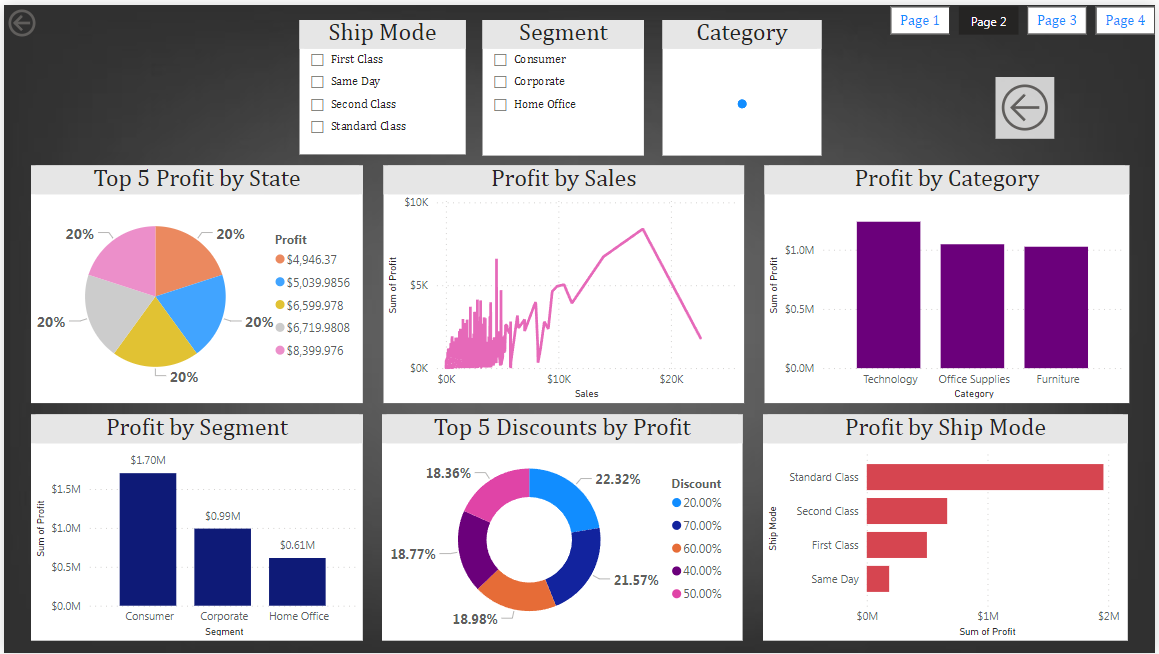

This screenshot's page, from the dashboard's own definition file:
{"tool":"powerbi","page":{"name":"Page 2","canvas":[1280,720],"ordinal":1},"visuals":[{"type":"actionButton","box":[0,0,100,40],"z":0},{"type":"pieChart","title":"Top 5 Profit by State","fields":{"Category":["Orders.Profit"],"Y":["CountNonNull(Orders.State)"]},"box":[30.2,178,368.7,263.8],"z":1000},{"type":"clusteredColumnChart","title":"Profit by Category","fields":{"Category":["Orders.Category"],"Y":["Sum(Orders.Profit)"]},"box":[845.6,178,405.3,263.8],"z":2000},{"type":"clusteredBarChart","title":"Profit by Ship Mode","fields":{"Category":["Orders.Ship Mode"],"Y":["Sum(Orders.Profit)"]},"box":[844,454.6,405.3,251.1],"z":3000},{"type":"lineClusteredColumnComboChart","title":"Profit by Segment","fields":{"Category":["Orders.Segment"],"Y":["Sum(Orders.Profit)"]},"box":[30.2,454.6,368.7,251.1],"z":4000},{"type":"donutChart","title":"Top 5 Discounts by Profit","fields":{"Category":["Orders.Discount"],"Y":["Sum(Orders.Profit)"]},"box":[419.6,454.6,400.5,251.1],"z":5000},{"type":"lineChart","title":"Profit by Sales","fields":{"Category":["Orders.Sales"],"Y":["Sum(Orders.Profit)"]},"box":[421.2,178,400.5,263.8],"z":6000},{"type":"slicer","title":"Ship Mode","fields":{"Values":["Orders.Ship Mode"]},"box":[329,15.9,184.4,149.4],"z":7000},{"type":"slicer","title":"Segment","fields":{"Values":["Orders.Segment"]},"box":[532.5,15.9,179.6,151],"z":8000},{"type":"scatterChart","title":"Category","fields":{"Category":["Orders.Category"]},"box":[731.1,15.9,176.4,151],"z":9000},{"type":"actionButton","title":"Clear Filters","box":[1101.5,79.5,65.2,68.3],"z":10000},{"type":"pageNavigator","box":[985.4,1.6,294,31.8],"z":11000}]}

Visuals, with their boxes in screenshot pixels (x1, y1, x2, y2), scaled from the page's 1280x720 canvas onto the 1159x654 screenshot:
actionButton: region(0, 0, 91, 36)
"Top 5 Profit by State" pieChart: region(27, 162, 361, 401)
"Profit by Category" clusteredColumnChart: region(766, 162, 1133, 401)
"Profit by Ship Mode" clusteredBarChart: region(764, 413, 1131, 641)
"Profit by Segment" lineClusteredColumnComboChart: region(27, 413, 361, 641)
"Top 5 Discounts by Profit" donutChart: region(380, 413, 743, 641)
"Profit by Sales" lineChart: region(381, 162, 744, 401)
"Ship Mode" slicer: region(298, 14, 465, 150)
"Segment" slicer: region(482, 14, 645, 152)
"Category" scatterChart: region(662, 14, 822, 152)
"Clear Filters" actionButton: region(997, 72, 1056, 134)
pageNavigator: region(892, 1, 1158, 30)
